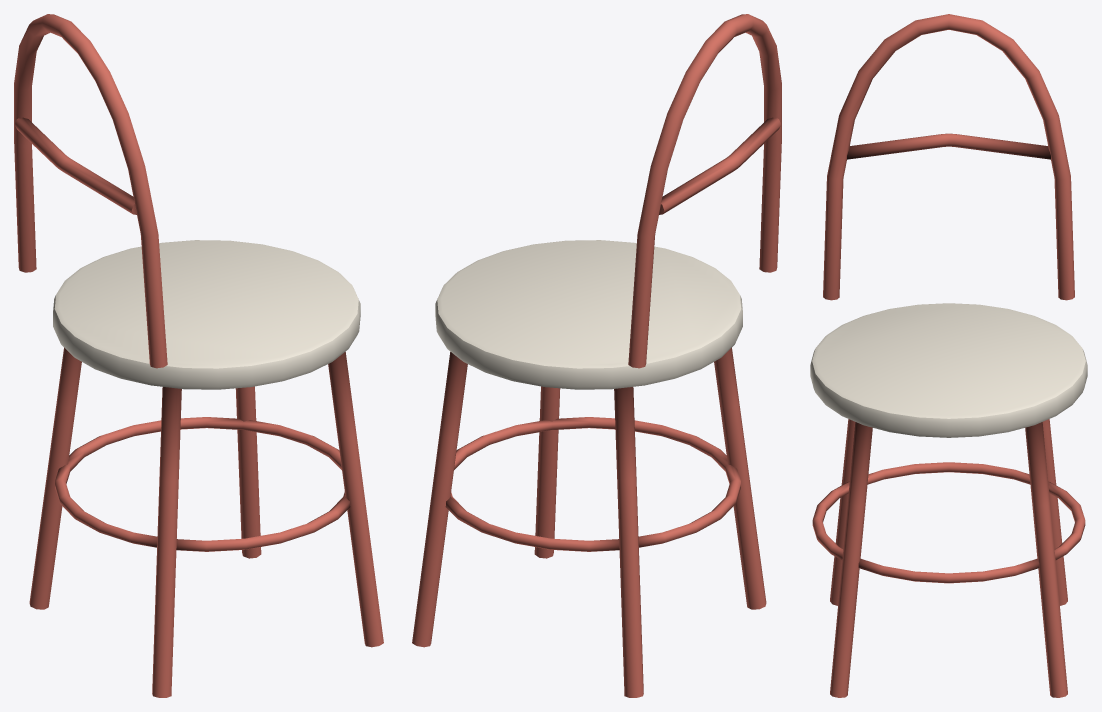
Rendered from nd_dinner_chair.glb.
The picture shows the model from 3 angles, left to right: view 1: azimuth 30°, elevation 25°; view 2: azimuth 150°, elevation 25°; view 3: azimuth 270°, elevation 25°; orthographic projection. The views are drawn at different scales.
Visible parts, largest first — view 1: PART; view 2: PART; view 3: PART.
Part boxes in pixels (x1,y1,x2,y2): PART: (14,14,383,697); PART: (412,14,781,697); PART: (810,14,1087,697).
Bounding box in the file's own units: 0.4243 × 0.9135 × 0.4.
